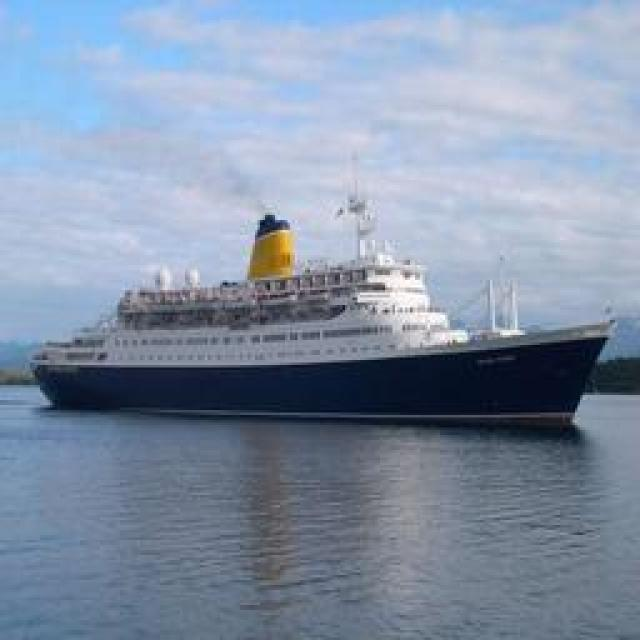CIV_Ship: (24, 197, 612, 425)
